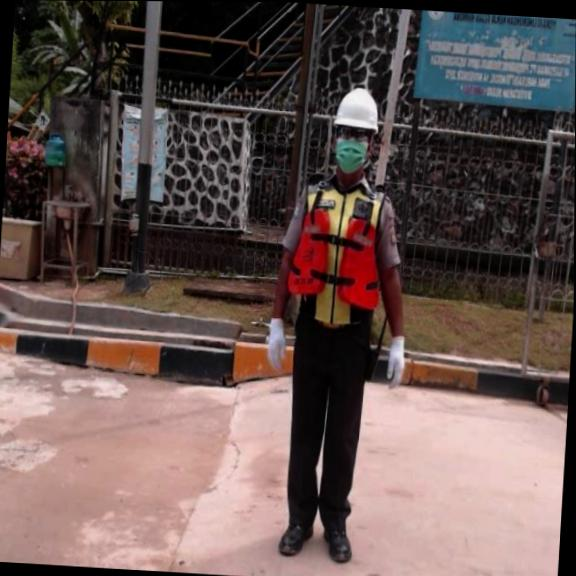safety_vest: (284, 201, 386, 319)
